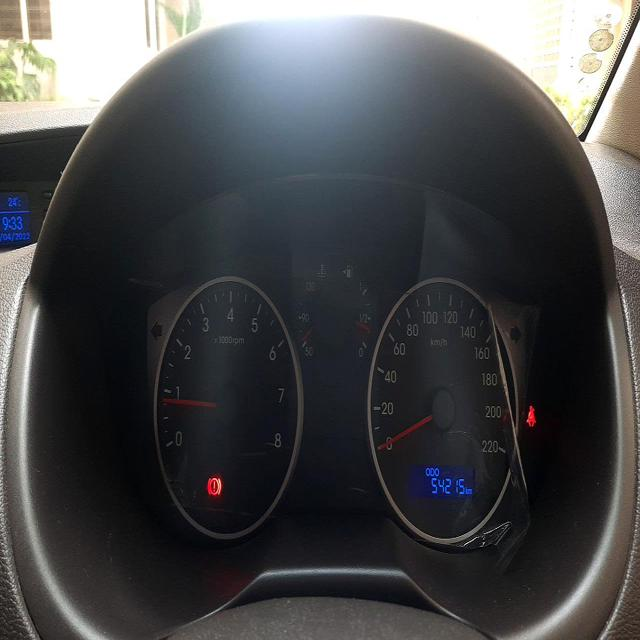odometer: (430, 475, 465, 497)
